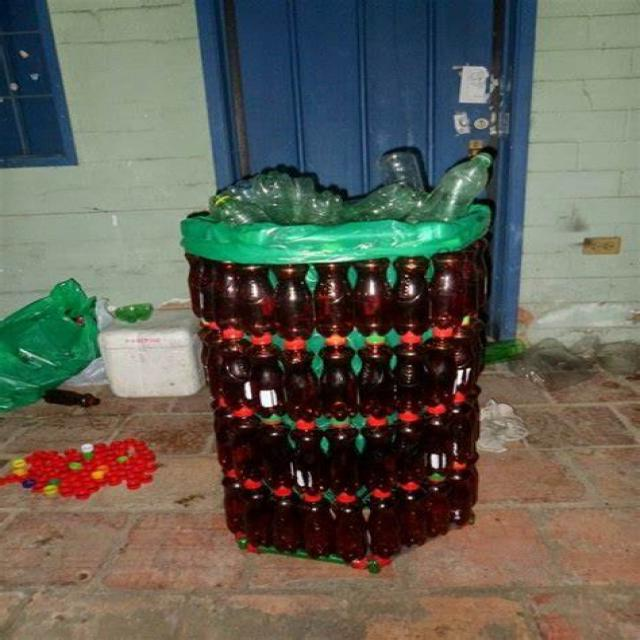garbage container: (165, 130, 518, 586)
